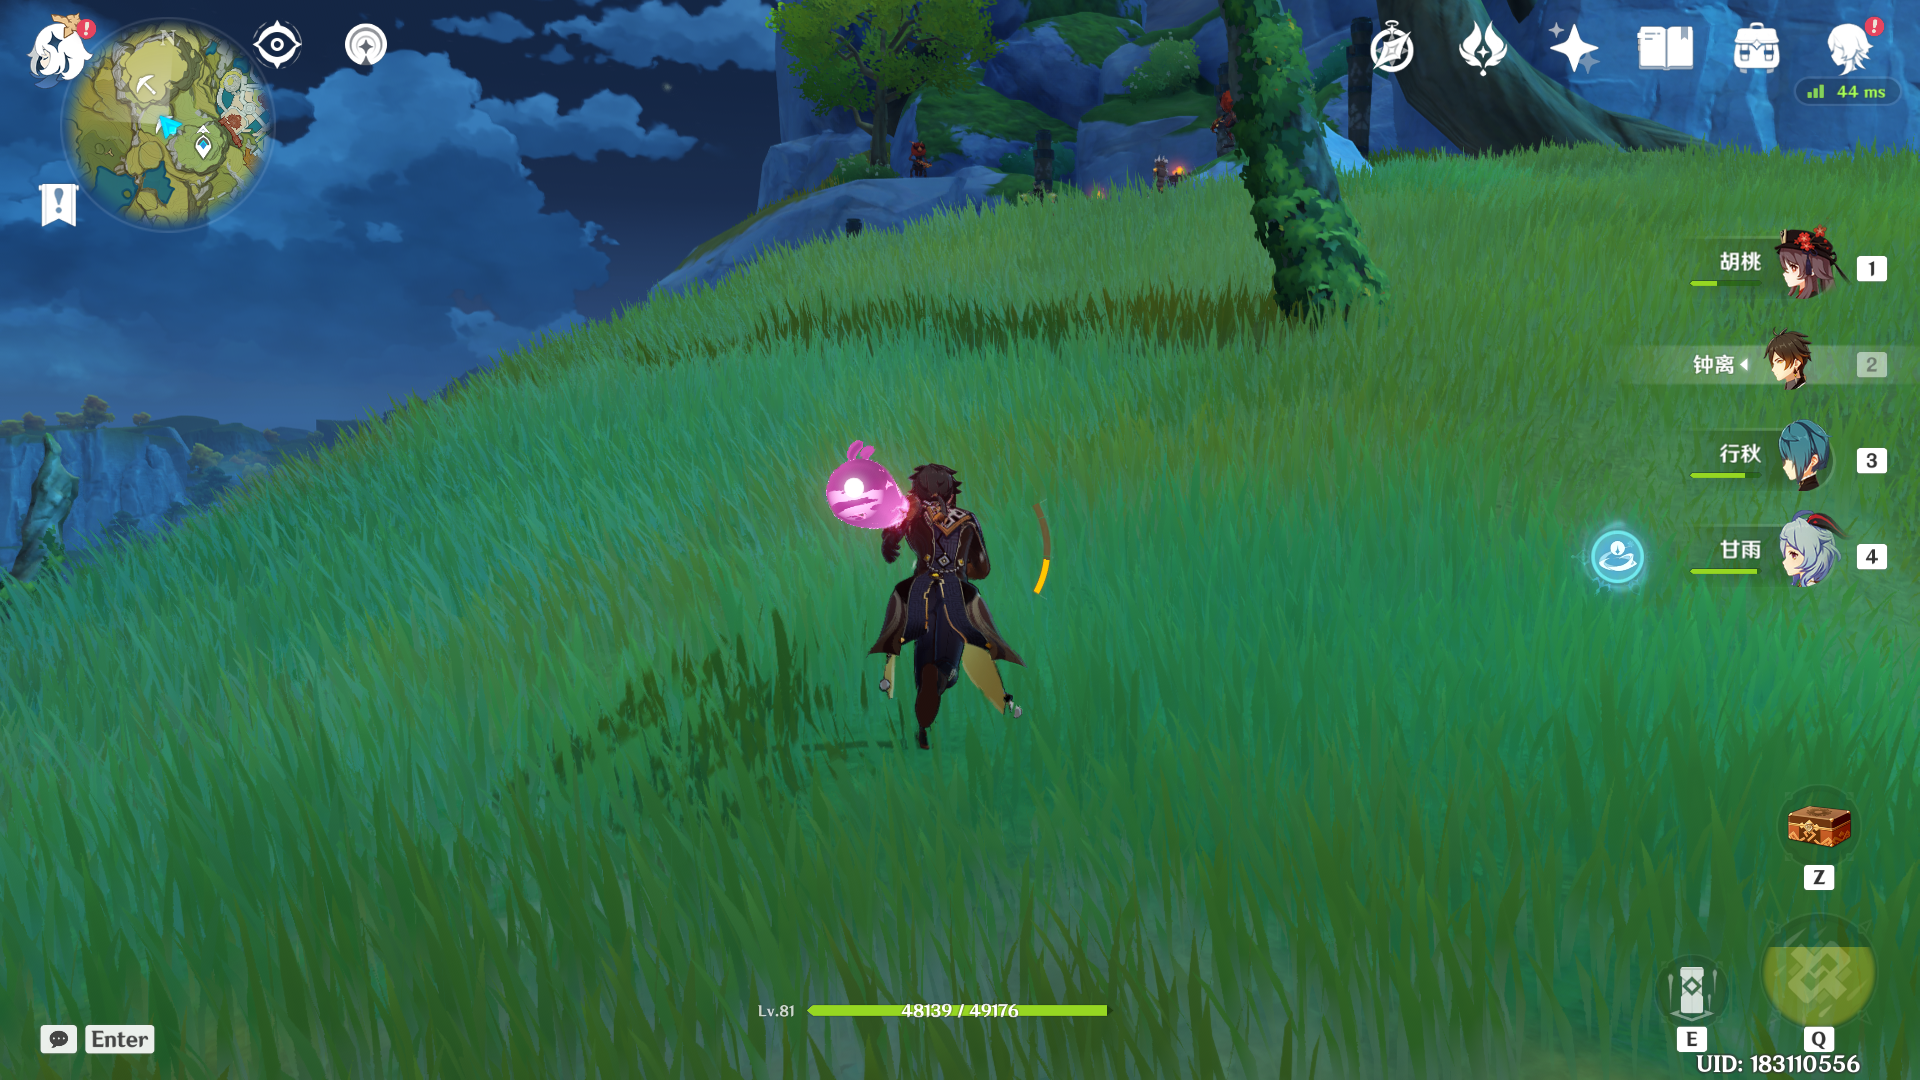character: (822, 396, 1100, 806)
